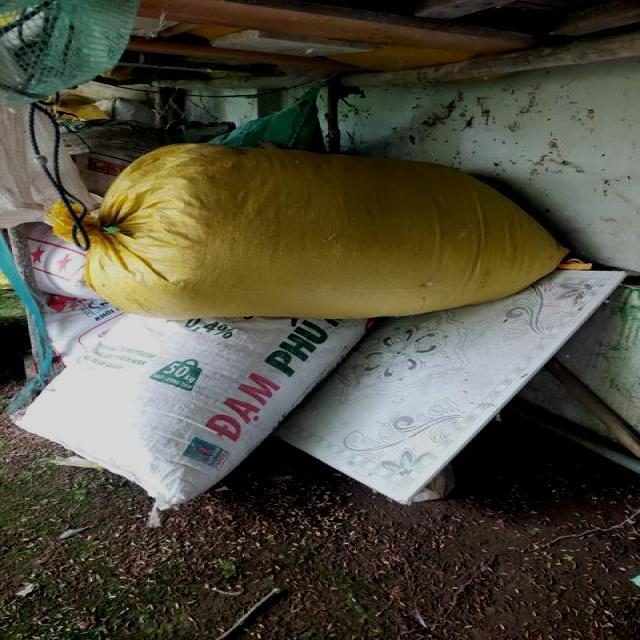gunny_bag: (84, 144, 569, 320), (15, 315, 367, 512)
